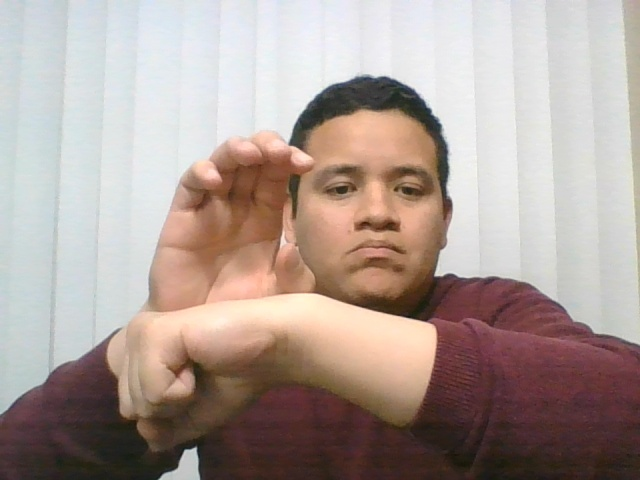Church: (102, 122, 332, 462)
